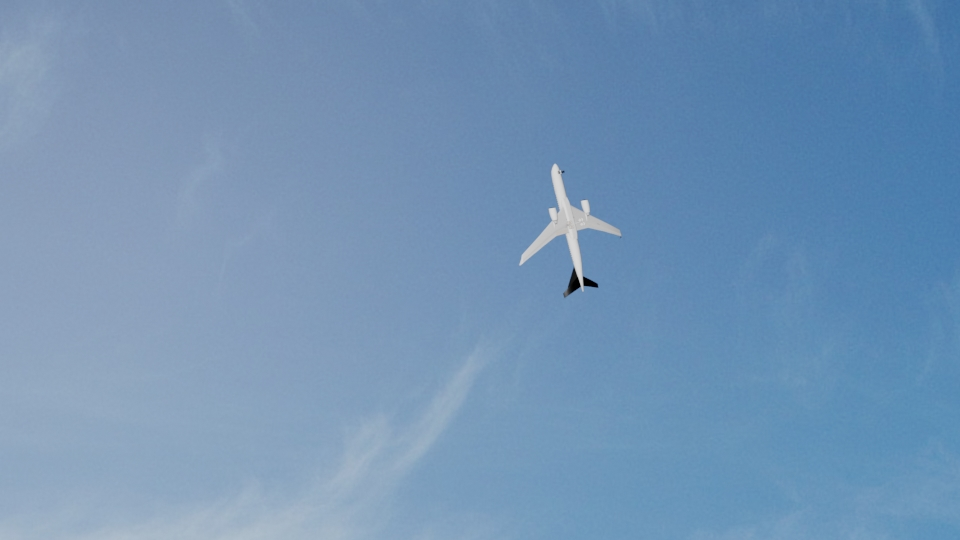plane: (515, 160, 621, 299)
